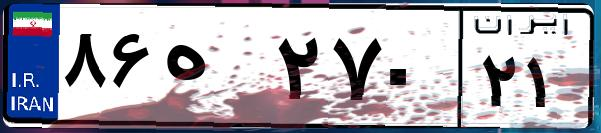0: (385, 28, 445, 110)
1: (525, 38, 570, 115)
2: (270, 28, 330, 110), (475, 38, 525, 113)
6: (110, 28, 158, 98)
7: (330, 28, 385, 110)
8: (57, 26, 110, 100)
ه: (158, 20, 270, 120)
